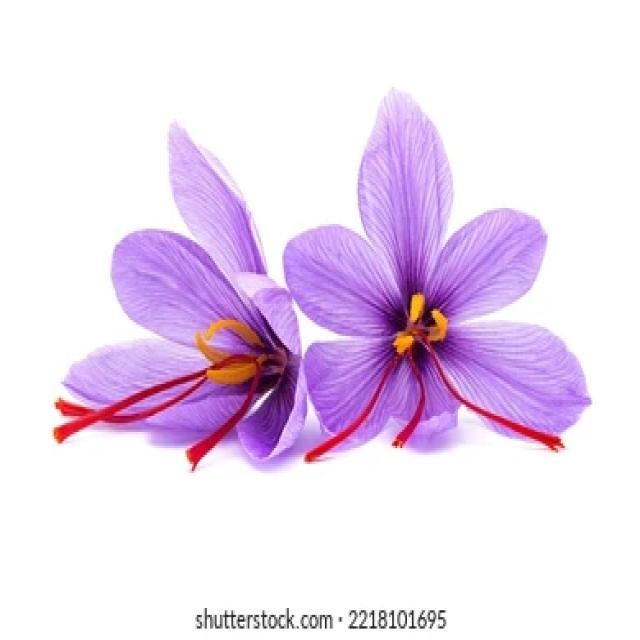Flower: (316, 158, 541, 484), (108, 177, 292, 500)
stigma: (432, 335, 568, 456), (296, 347, 402, 472), (36, 365, 201, 444), (190, 380, 264, 467), (391, 352, 433, 446)
